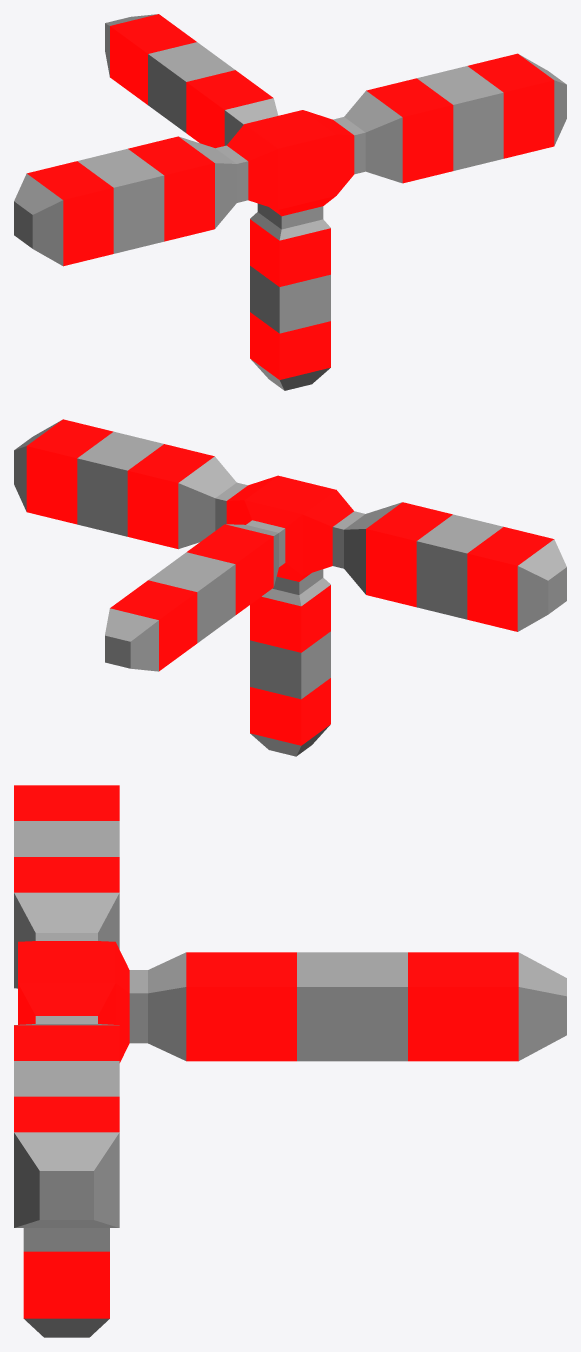
File: enemy1_1.fbx
3 views of the same model, one above another, from view 1: azimuth 30°, elevation 25°; view 2: azimuth 150°, elevation 25°; view 3: azimuth 270°, elevation 25° (orthographic). The views are drawn at different scales.
Visible parts, largest first — view 1: Cube; view 2: Cube; view 3: Cube.
Part boxes in pixels (<box>): Cube: <box>14,14,566,390</box>; Cube: <box>14,419,566,756</box>; Cube: <box>14,785,566,1337</box>.
Size of the model in its own units: 577 by 263 by 357.
